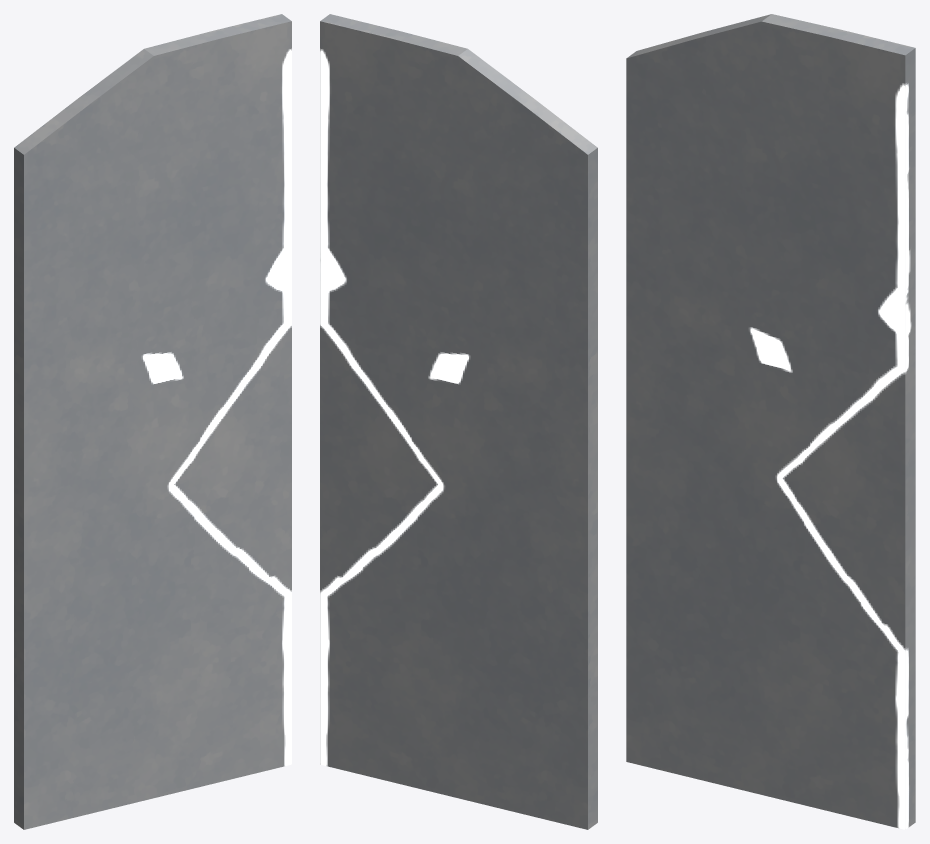
File: PuertaBossIzquierda.fbx
The picture shows the model from 3 angles, left to right: view 1: azimuth 30°, elevation 25°; view 2: azimuth 150°, elevation 25°; view 3: azimuth 330°, elevation 25°; orthographic projection. The views are drawn at different scales.
Visible parts, largest first — view 1: Puerta izquierda; view 2: Puerta izquierda; view 3: Puerta izquierda.
Part boxes in pixels (x1=…): Puerta izquierda: x1=14, y1=14, x2=291, y2=829; Puerta izquierda: x1=320, y1=14, x2=597, y2=829; Puerta izquierda: x1=626, y1=14, x2=915, y2=829.
Bounding box in the file's own units: 426 × 1129 × 27.12.
